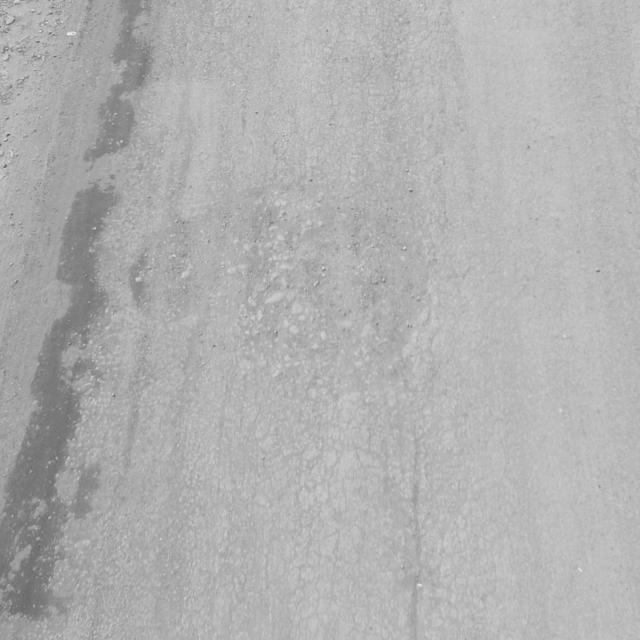GRIETA: (122, 192, 431, 386), (411, 476, 423, 639)
PIEL DE COCODRILO: (206, 383, 450, 639), (260, 4, 470, 185)
